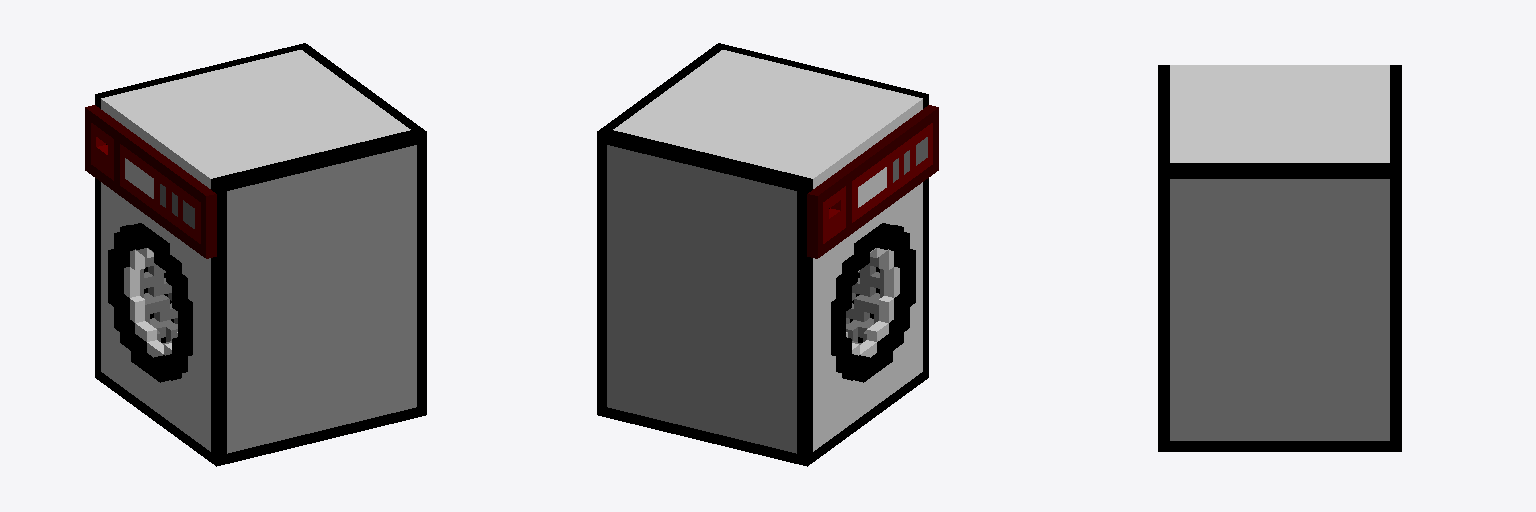
3 views of the same model, side by side, from view 1: azimuth 30°, elevation 25°; view 2: azimuth 150°, elevation 25°; view 3: azimuth 270°, elevation 25° (orthographic).
Parts seen in each view (by area): view 1: object 1; view 2: object 1; view 3: object 1.
Boxes of the visible parts, box(x1,y1,x2,y2) form: object 1: box(85, 43, 426, 466); object 1: box(597, 43, 938, 466); object 1: box(1158, 65, 1401, 451).
Size of the model in its own units: 2.2 by 2.7 by 2.1.
Materials: 1 (1 with a texture image).